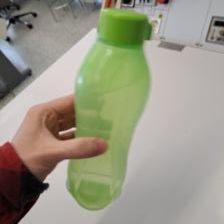bottle: (65, 7, 155, 211)
